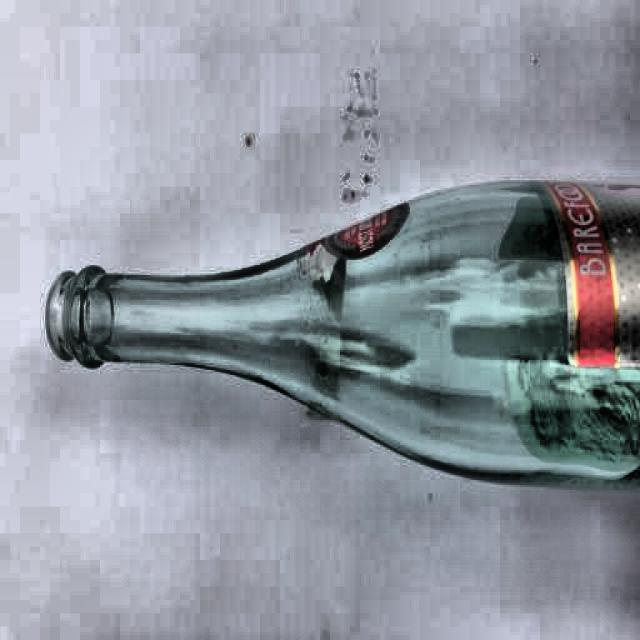glass: (48, 172, 640, 510)
